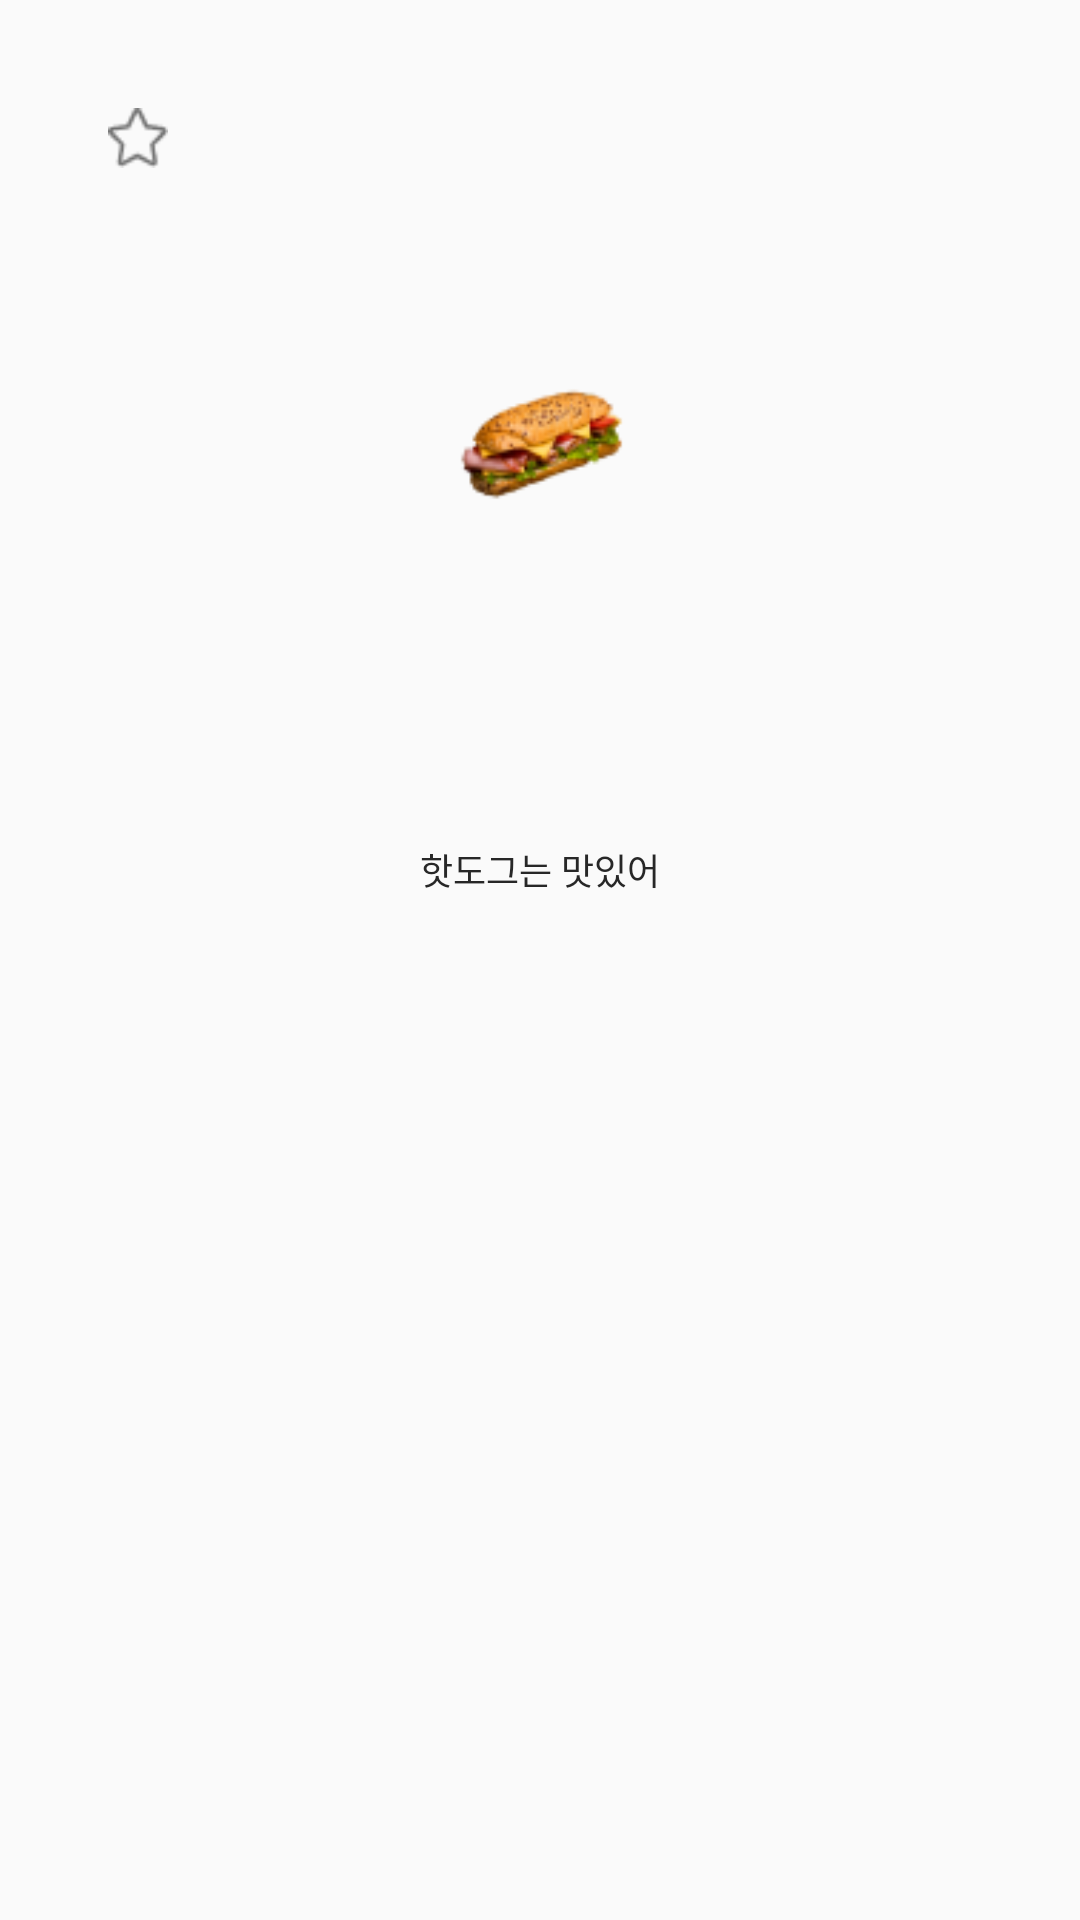

Point at icon controls on the screen. Image size 1080px×1920px, points as (x,y).
star: (138,138)
